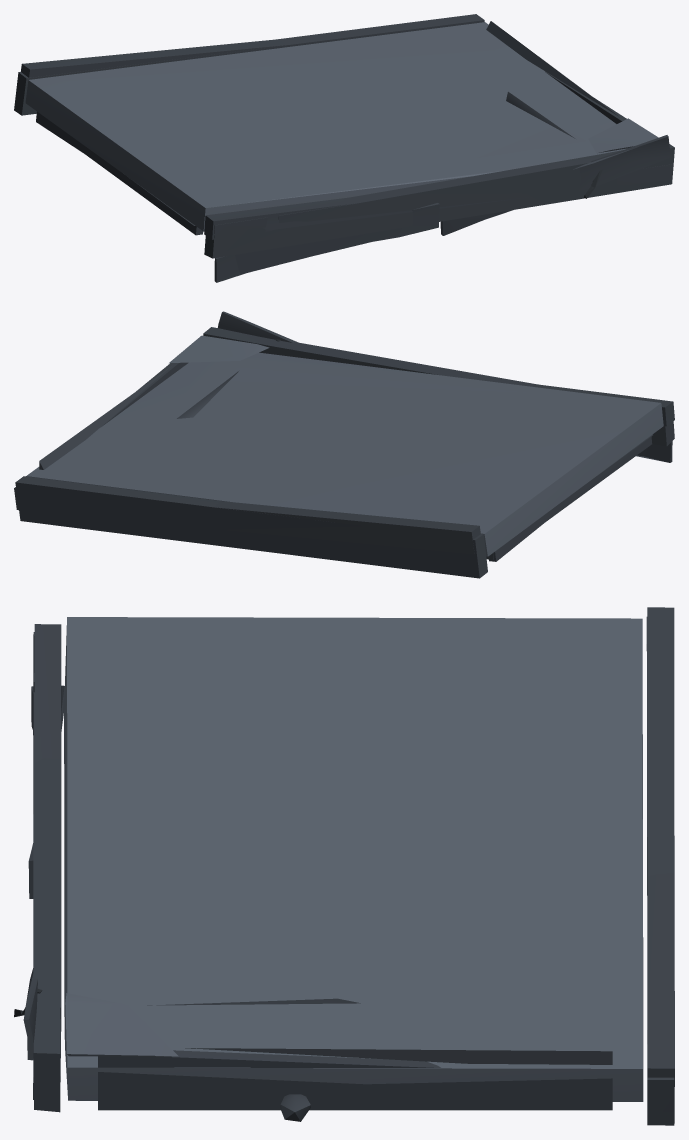
File: shr_deb_generic_platform_composite_a.glb
The picture shows the model from 3 angles, top to bottom: view 1: azimuth 30°, elevation 25°; view 2: azimuth 150°, elevation 25°; view 3: azimuth 270°, elevation 25°; orthographic projection. The views are drawn at different scales.
Visible parts, largest first — view 1: frag_03, husk, frag_02, frag_01, frag_04; view 2: frag_03, husk, frag_04, frag_01, frag_02; view 3: frag_03, husk, frag_04, frag_01.
Boxes of the visible parts, box(x1,y1,x2,y2) form: frag_03: box(14, 14, 672, 239); husk: box(20, 39, 674, 258); frag_02: box(214, 203, 439, 282); frag_01: box(440, 135, 671, 235); frag_04: box(486, 21, 618, 116); frag_03: box(15, 352, 674, 578); husk: box(14, 327, 674, 559); frag_04: box(39, 365, 172, 469); frag_01: box(218, 311, 298, 342); frag_02: box(636, 441, 672, 462); frag_03: box(33, 617, 674, 1125); husk: box(14, 607, 674, 1121); frag_04: box(185, 1048, 612, 1064); frag_01: box(23, 968, 37, 1060).
Size of the model in its own units: 1.66 by 0.3283 by 1.22.
